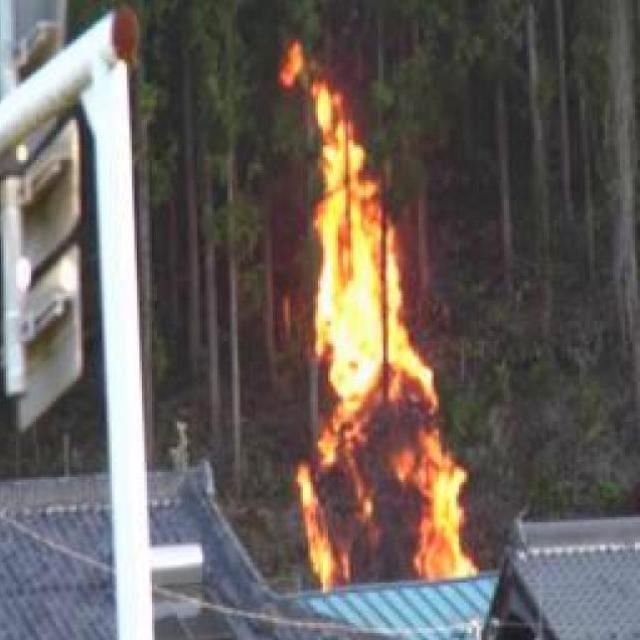Fire: (298, 59, 475, 593)
